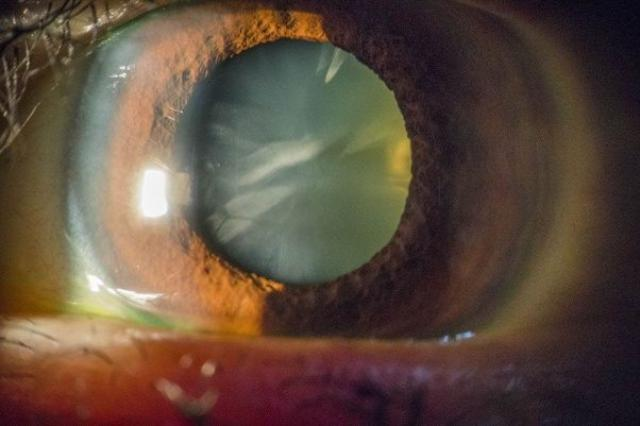eye: (96, 1, 544, 342)
